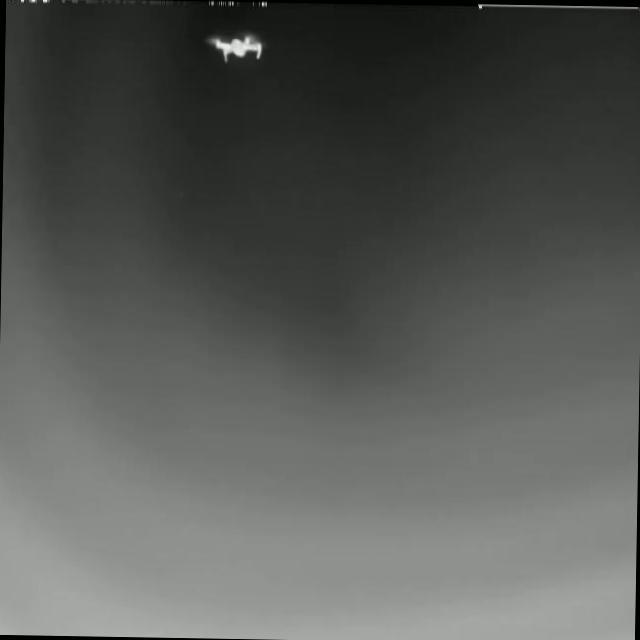DRONE: (205, 30, 268, 67)
